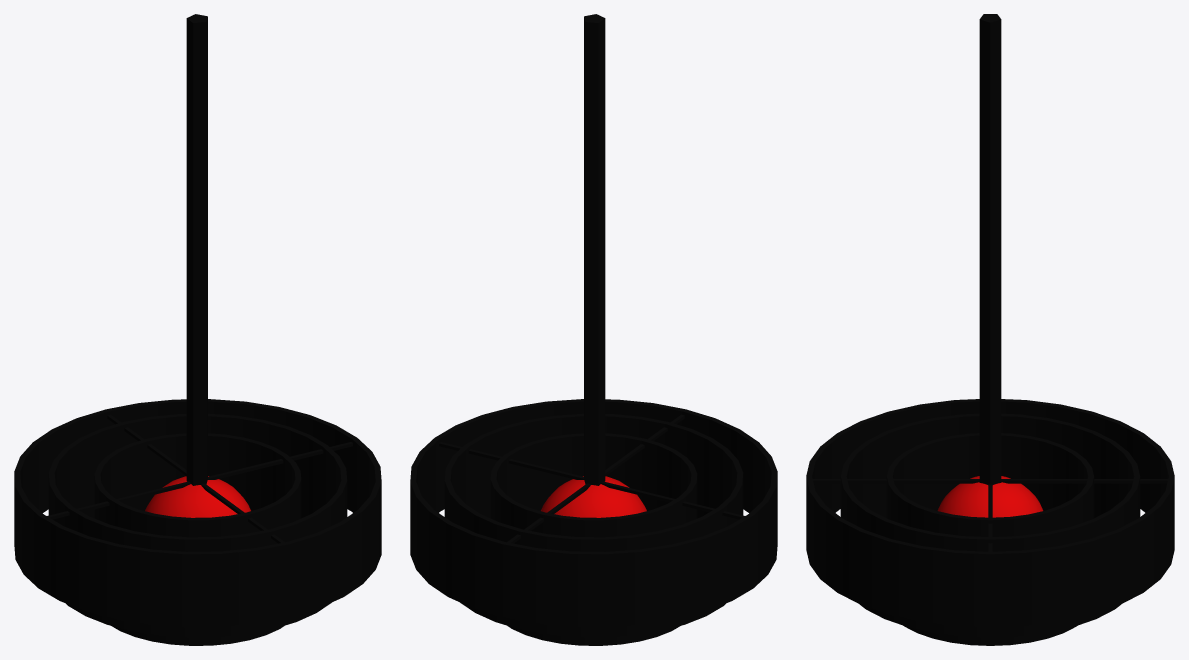
The model's file is SM_School_Light.fbx.
The picture shows the model from 3 angles, left to right: view 1: azimuth 30°, elevation 25°; view 2: azimuth 150°, elevation 25°; view 3: azimuth 270°, elevation 25°; orthographic projection.
Parts seen in each view (by area): view 1: SM_School_Light; view 2: SM_School_Light; view 3: SM_School_Light.
Part boxes in pixels (x1=…): SM_School_Light: x1=14, y1=14, x2=381, y2=645; SM_School_Light: x1=410, y1=14, x2=777, y2=645; SM_School_Light: x1=806, y1=14, x2=1174, y2=645.
Size of the model in its own units: 16 by 27.98 by 16.
